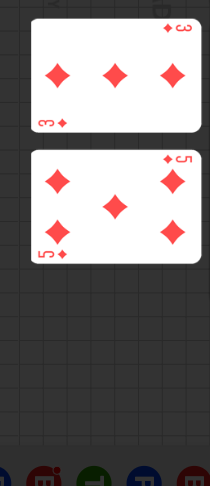3D: (161, 22, 193, 34)
5D: (36, 248, 69, 260)
